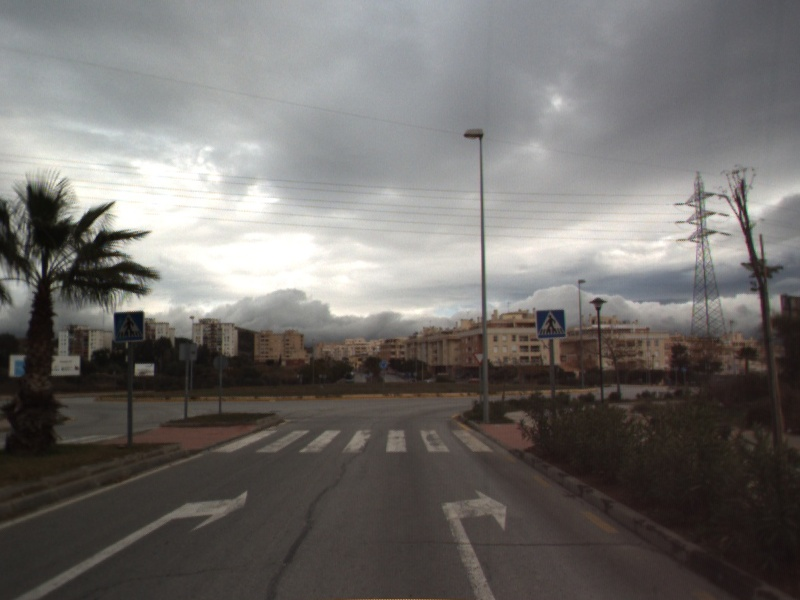RIGHT: (10, 488, 249, 600), (439, 487, 509, 600)
